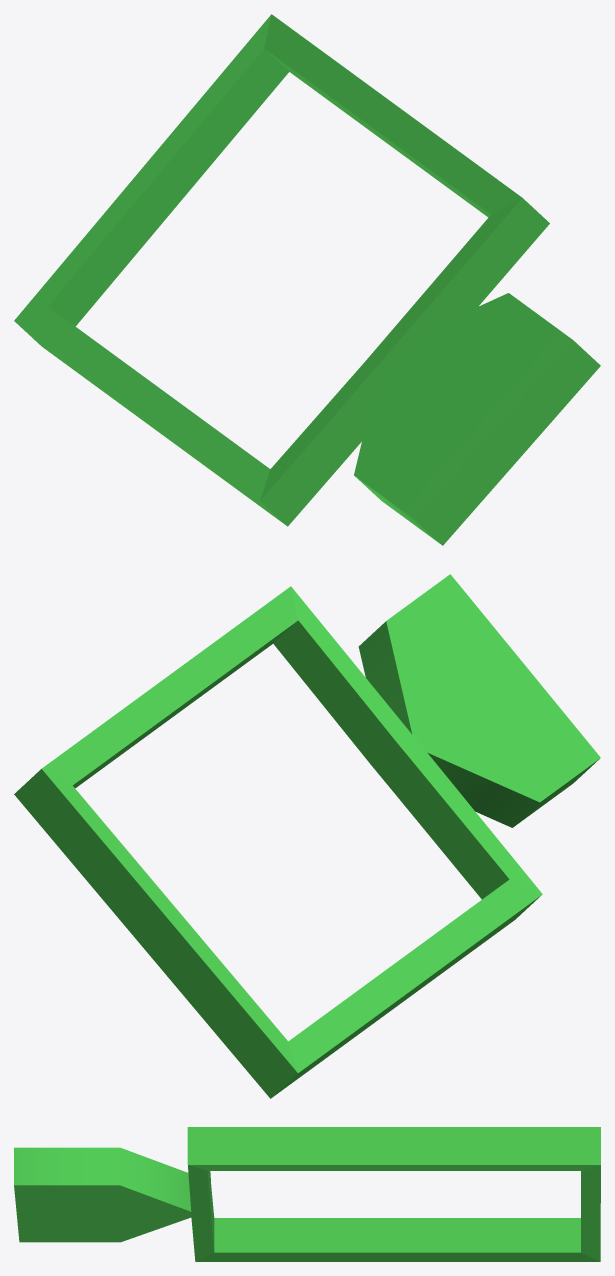
Rendered from Lever_Special_01_Arrow.fbx.
3 views of the same model, one above another, from view 1: azimuth 30°, elevation 25°; view 2: azimuth 150°, elevation 25°; view 3: azimuth 270°, elevation 25° (orthographic). The views are drawn at different scales.
Visible parts, largest first — view 1: Lever_Special_01_Arrow; view 2: Lever_Special_01_Arrow; view 3: Lever_Special_01_Arrow.
Part boxes in pixels (x1,y1,x2,y2): Lever_Special_01_Arrow: (14,14,600,545); Lever_Special_01_Arrow: (14,574,600,1098); Lever_Special_01_Arrow: (14,1127,600,1261).
Bounding box in the file's own units: 1.53 × 1.41 × 3.3.
